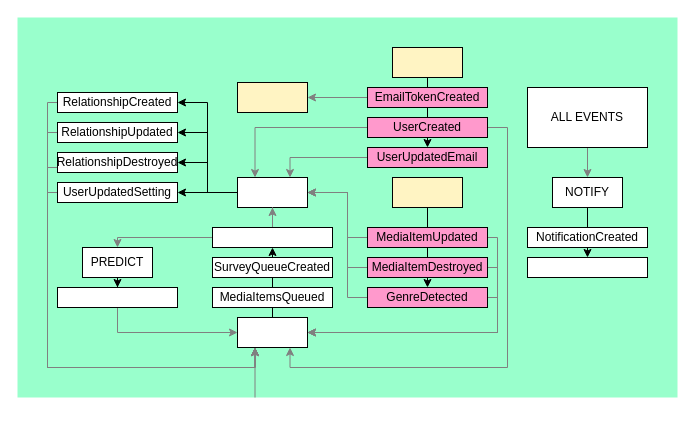
Some shapes in this 694 by 423 pixel diagram are drawn without their labels. Here are the shapes that lost their labels. From the top down, the centre of each, then its label:
At pixel 427 62: "AUTH".
At pixel 272 97: "MAIL".
At pixel 272 192: "USER".
At pixel 427 192: "INGEST".
At pixel 272 237: "MediaItemProcessed".
At pixel 587 267: "NotificationUpdated".
At pixel 117 297: "MediaItemSuggested".
At pixel 272 332: "SURVEY".
